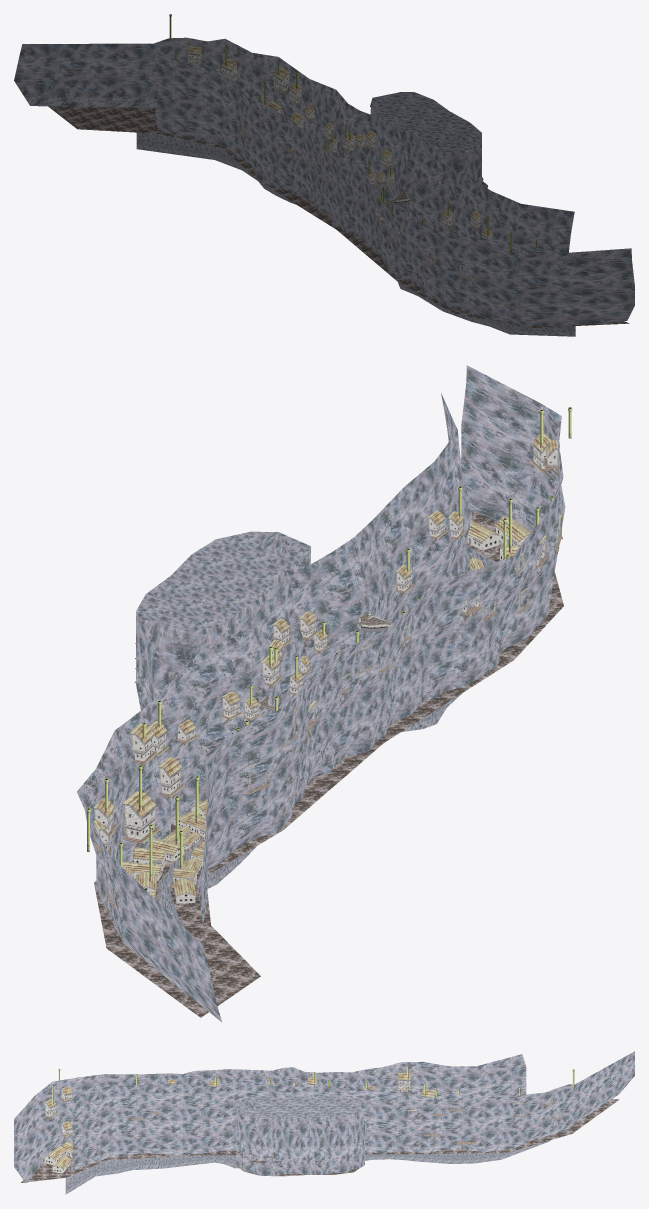
3 renders of one model, top to bottom at view 1: azimuth 30°, elevation 25°; view 2: azimuth 150°, elevation 25°; view 3: azimuth 270°, elevation 25°, orthographic. The views are drawn at different scales.
Parts seen in each view (by area): view 1: polygon1.038, polygon12.027, polygon5.027, polygon465.001; view 2: polygon1.038, polygon12.027, polygon5.027, polygon465.001; view 3: polygon1.038, polygon465.001, polygon5.027, polygon12.027.
Part boxes in pixels (bbox=[...]): polygon1.038: bbox=[14, 37, 634, 326]; polygon12.027: bbox=[155, 14, 537, 308]; polygon5.027: bbox=[48, 106, 629, 327]; polygon465.001: bbox=[136, 122, 575, 336]; polygon1.038: bbox=[77, 365, 565, 1022]; polygon12.027: bbox=[86, 407, 572, 909]; polygon5.027: bbox=[94, 509, 563, 1017]; polygon465.001: bbox=[158, 546, 496, 922]; polygon1.038: bbox=[14, 1051, 634, 1182]; polygon465.001: bbox=[65, 1140, 550, 1194]; polygon5.027: bbox=[21, 1099, 619, 1182]; polygon12.027: bbox=[44, 1066, 574, 1173].
Bounding box in the file's own units: 131789 × 64685 × 363773.
Materials: 19 (19 with a texture image).
